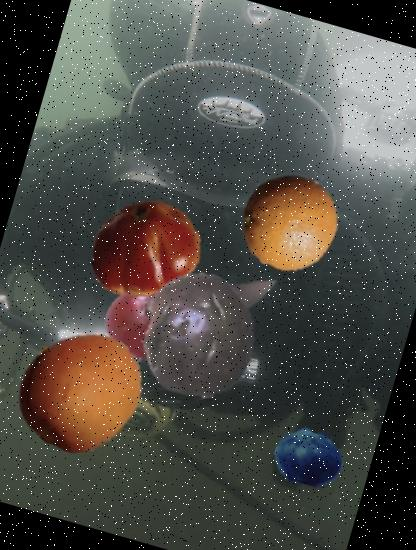Apricot: (2, 311, 158, 468)
Huckleberry: (266, 414, 351, 498)
Orange: (228, 162, 349, 282)
Passion: (116, 254, 278, 415)
Redcurrant: (96, 280, 180, 362)
Tomato: (76, 179, 214, 318)
